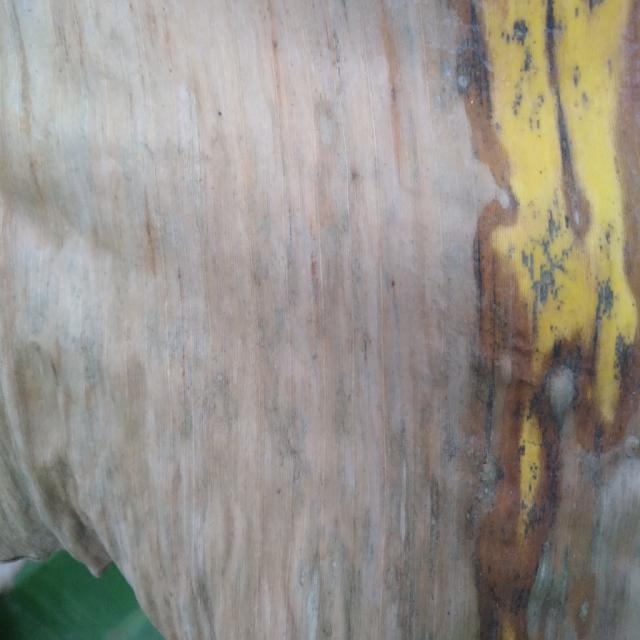Early_rust: (430, 0, 640, 640)
